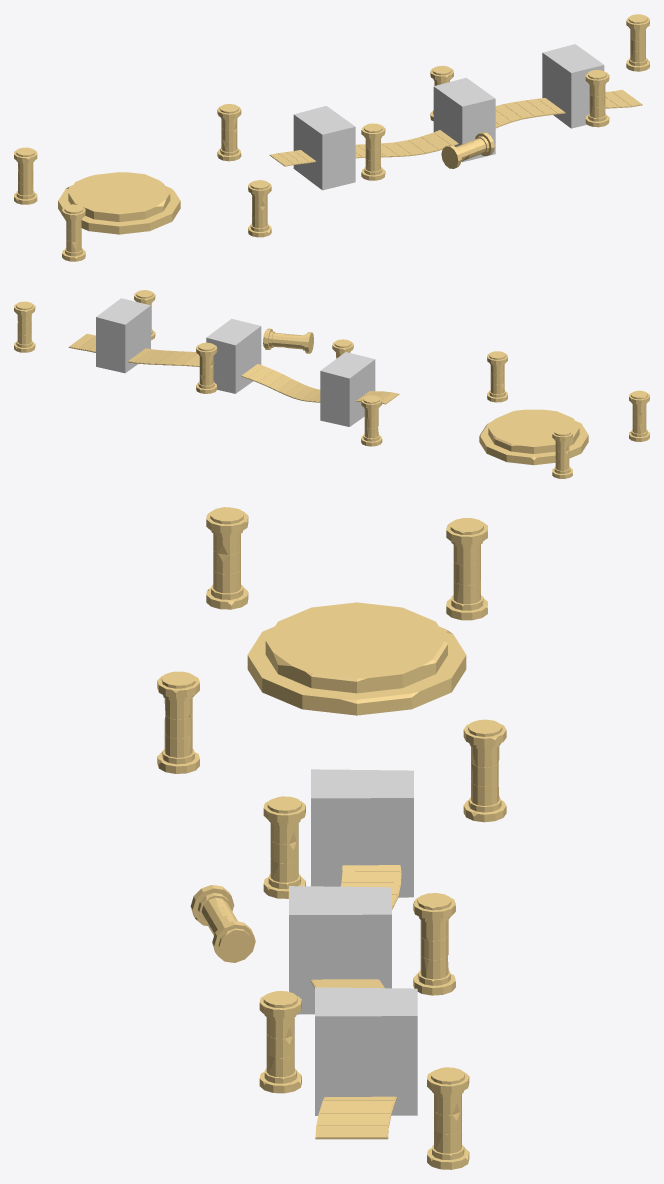
The picture shows the model from 3 angles, top to bottom: view 1: azimuth 30°, elevation 25°; view 2: azimuth 150°, elevation 25°; view 3: azimuth 270°, elevation 25°; orthographic projection. The views are drawn at different scales.
Visible parts, largest first — view 1: Base, trigger_text_03, Path, trigger_text_02, trigger_text_01, props_pillar_06, props_pillar_02, props_pillar_05, props_pillar_08, props_pillar_01, props_pillar_09, props_pillar_07 (+2 smaller); view 2: Base, trigger_text_01, trigger_text_03, trigger_text_02, Path, props_pillar_06, props_pillar_01, props_pillar_03, props_pillar_07, props_pillar_08, props_pillar_09, props_pillar_04 (+1 smaller); view 3: Base, trigger_text_01, trigger_text_03, trigger_text_02, Path, props_pillar_02, props_pillar_03, props_pillar_07, props_pillar_06, props_pillar_09, props_pillar_01, props_pillar_08 (+2 smaller).
Boxes of the visible parts, left/top/right/bottom form: Base: left=58, top=172, right=180, bottom=234; trigger_text_03: left=293, top=106, right=355, bottom=190; Path: left=269, top=89, right=642, bottom=166; trigger_text_02: left=433, top=77, right=495, bottom=162; trigger_text_01: left=542, top=44, right=604, bottom=128; props_pillar_06: left=217, top=104, right=241, bottom=161; props_pillar_02: left=585, top=70, right=609, bottom=127; props_pillar_05: left=361, top=123, right=385, bottom=180; props_pillar_08: left=14, top=147, right=37, bottom=204; props_pillar_01: left=626, top=14, right=649, bottom=71; props_pillar_09: left=62, top=204, right=85, bottom=261; props_pillar_07: left=248, top=180, right=271, bottom=237; Base: left=479, top=409, right=588, bottom=465; trigger_text_01: left=96, top=298, right=150, bottom=373; trigger_text_03: left=320, top=352, right=375, bottom=426; trigger_text_02: left=206, top=318, right=261, bottom=393; Path: left=68, top=334, right=399, bottom=404; props_pillar_06: left=361, top=395, right=382, bottom=446; props_pillar_01: left=14, top=301, right=35, bottom=352; props_pillar_03: left=196, top=342, right=217, bottom=393; props_pillar_07: left=487, top=351, right=507, bottom=402; props_pillar_08: left=552, top=427, right=572, bottom=478; props_pillar_09: left=629, top=390, right=649, bottom=441; props_pillar_04: left=263, top=328, right=313, bottom=353; Base: left=247, top=602, right=466, bottom=715; trigger_text_01: left=315, top=987, right=417, bottom=1115; trigger_text_03: left=311, top=769, right=413, bottom=897; trigger_text_02: left=289, top=886, right=391, bottom=1014; Path: left=310, top=865, right=401, bottom=1139; props_pillar_02: left=259, top=991, right=301, bottom=1093; props_pillar_03: left=413, top=893, right=455, bottom=995; props_pillar_07: left=157, top=671, right=199, bottom=773; props_pillar_06: left=463, top=719, right=506, bottom=822; props_pillar_09: left=206, top=507, right=248, bottom=609; props_pillar_01: left=427, top=1067, right=469, bottom=1169; props_pillar_08: left=446, top=518, right=487, bottom=620.
Bounding box in the file's own units: 36.38 × 3.7 × 9.52.
